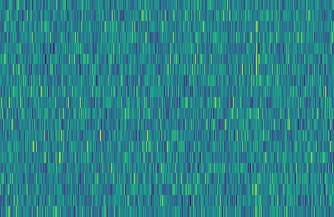signal: (252, 0, 262, 217)
